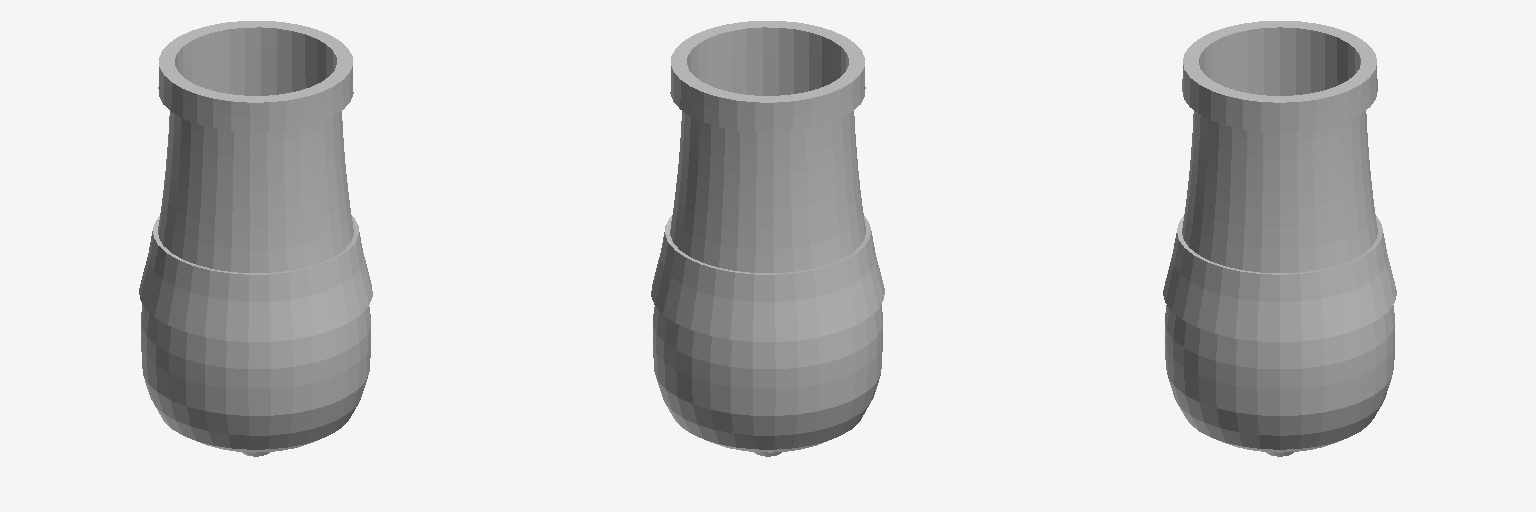
File: cannon_2.obj
The picture shows the model from 3 angles: view 1: azimuth 30°, elevation 25°; view 2: azimuth 150°, elevation 25°; view 3: azimuth 270°, elevation 25°; orthographic projection.
Visible parts, largest first — view 1: 炮管.003_柱体.009; view 2: 炮管.003_柱体.009; view 3: 炮管.003_柱体.009.
Boxes of the visible parts, x1=… form: 炮管.003_柱体.009: x1=139, y1=21, x2=372, y2=456; 炮管.003_柱体.009: x1=651, y1=21, x2=884, y2=456; 炮管.003_柱体.009: x1=1163, y1=21, x2=1396, y2=456.
Size of the model in its own units: 0.8662 by 1.59 by 0.8662.